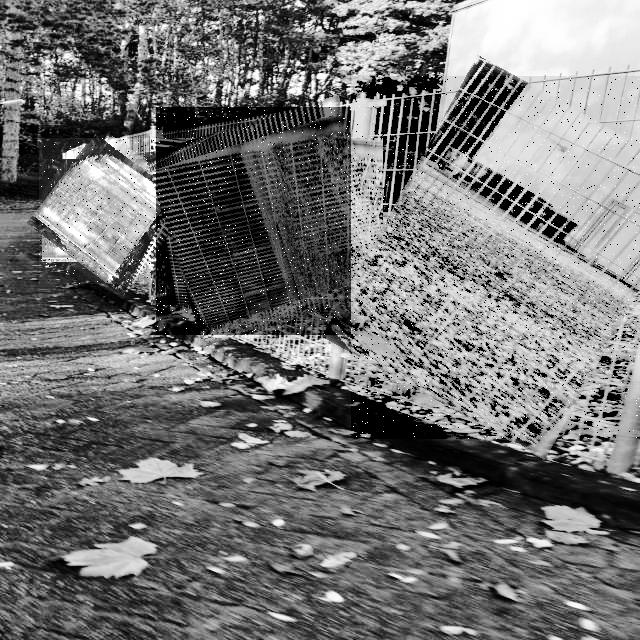fences: (351, 76, 640, 439), (156, 107, 384, 335), (39, 138, 184, 284)
